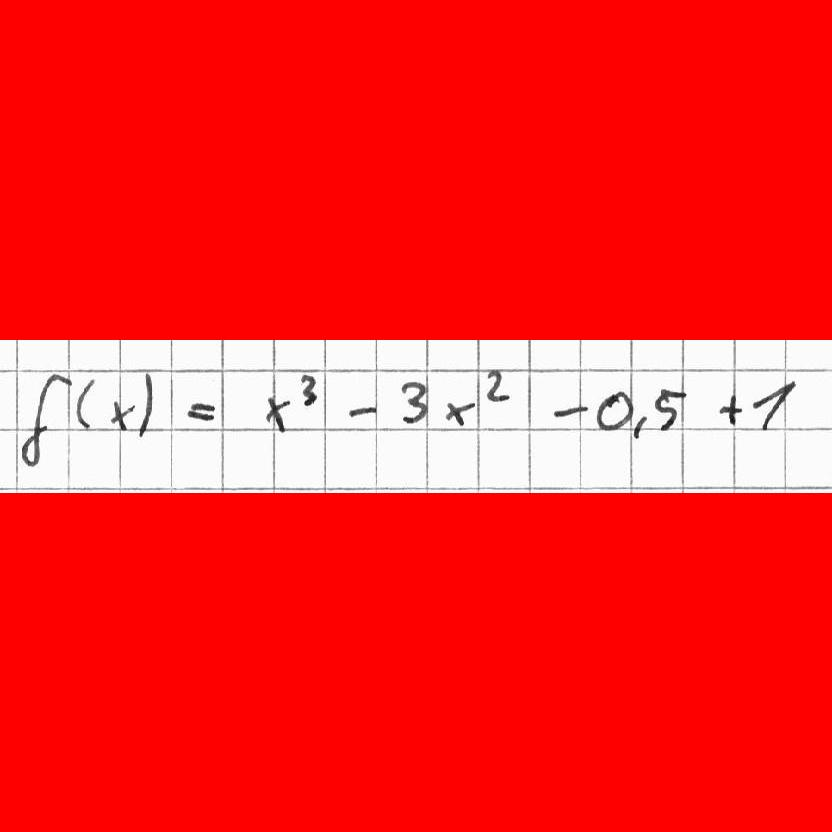Char: (20, 367, 75, 470), (748, 377, 799, 433), (121, 366, 149, 442), (651, 385, 687, 433), (397, 376, 431, 426), (595, 389, 635, 431), (263, 392, 296, 435), (74, 375, 96, 432), (440, 397, 479, 429), (106, 397, 138, 433), (483, 367, 512, 406), (717, 392, 744, 427), (346, 399, 384, 421), (549, 401, 590, 421), (297, 371, 318, 409), (185, 399, 216, 423), (631, 412, 649, 440)
